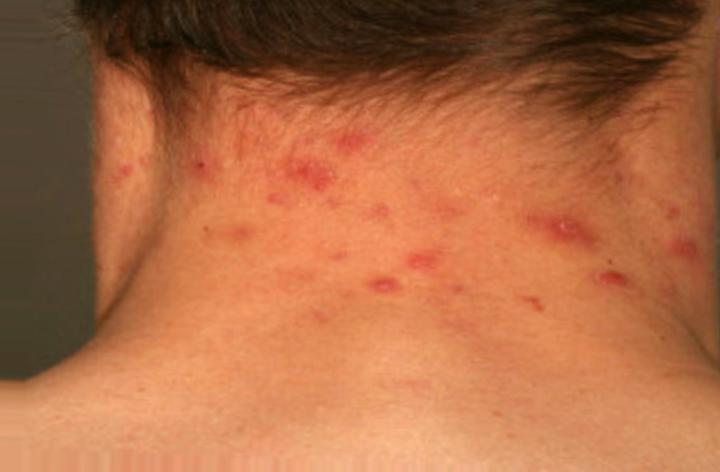Folliculitis: (210, 112, 650, 355)
